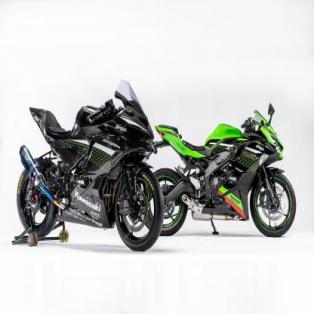Motocicleta: (12, 82, 164, 264), (155, 81, 299, 243)
